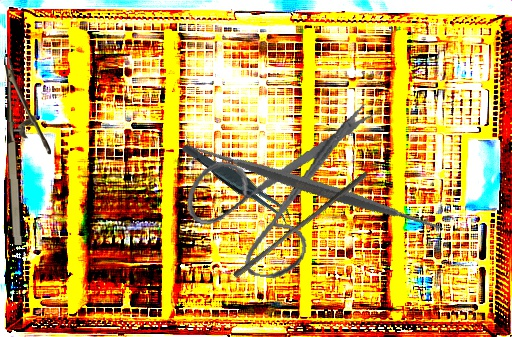Iris Scissors: (176, 77, 378, 291)
Needle Holder: (4, 55, 53, 246)
Pusher: (231, 164, 371, 285)
Spatula Surgical: (183, 54, 449, 320)
Tissue Forceps: (180, 124, 296, 243)
